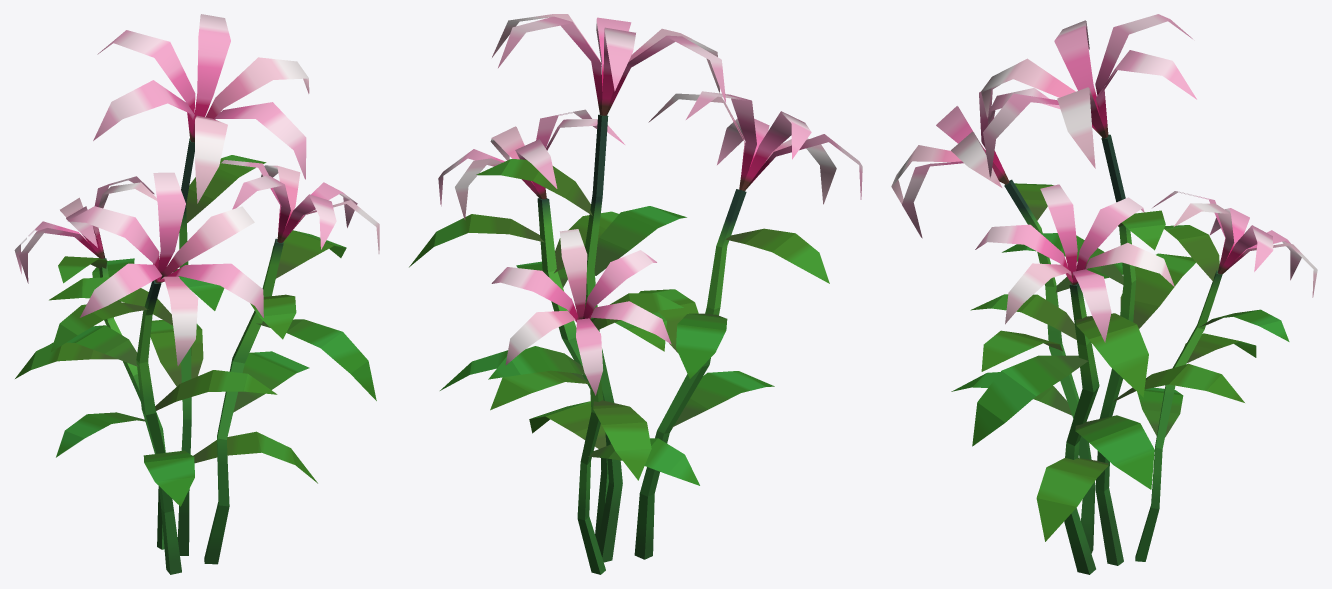
The model's file is um_flower001.FBX.
3 renders of one model, left to right at view 1: azimuth 30°, elevation 25°; view 2: azimuth 150°, elevation 25°; view 3: azimuth 270°, elevation 25°, orthographic. The views are drawn at different scales.
Parts seen in each view (by area): view 1: um_flower001; view 2: um_flower001; view 3: um_flower001.
Boxes of the visible parts, left/top/right/bottom form: um_flower001: left=14, top=14, right=379, bottom=574; um_flower001: left=409, top=14, right=862, bottom=574; um_flower001: left=891, top=14, right=1317, bottom=574.
Bounding box in the file's own units: 1.39 × 1.97 × 1.44.
